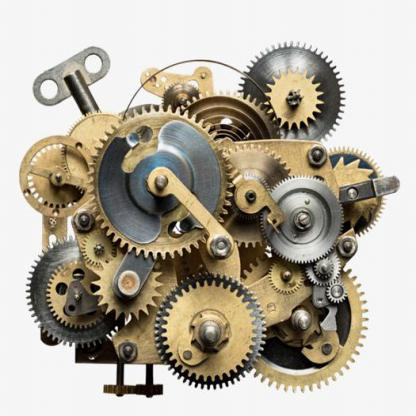FOD: (160, 278, 260, 384)
